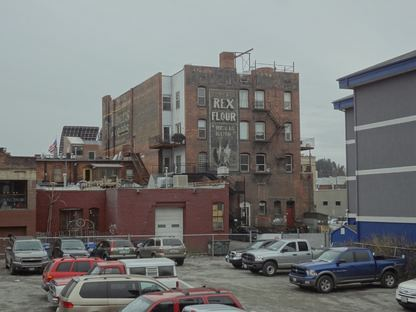car: (6, 235, 51, 274), (137, 234, 187, 265), (227, 236, 273, 269), (92, 236, 136, 259), (52, 236, 90, 256), (232, 227, 262, 240), (329, 218, 346, 225)
truck: (292, 250, 407, 295), (239, 238, 344, 277), (395, 275, 416, 312)
